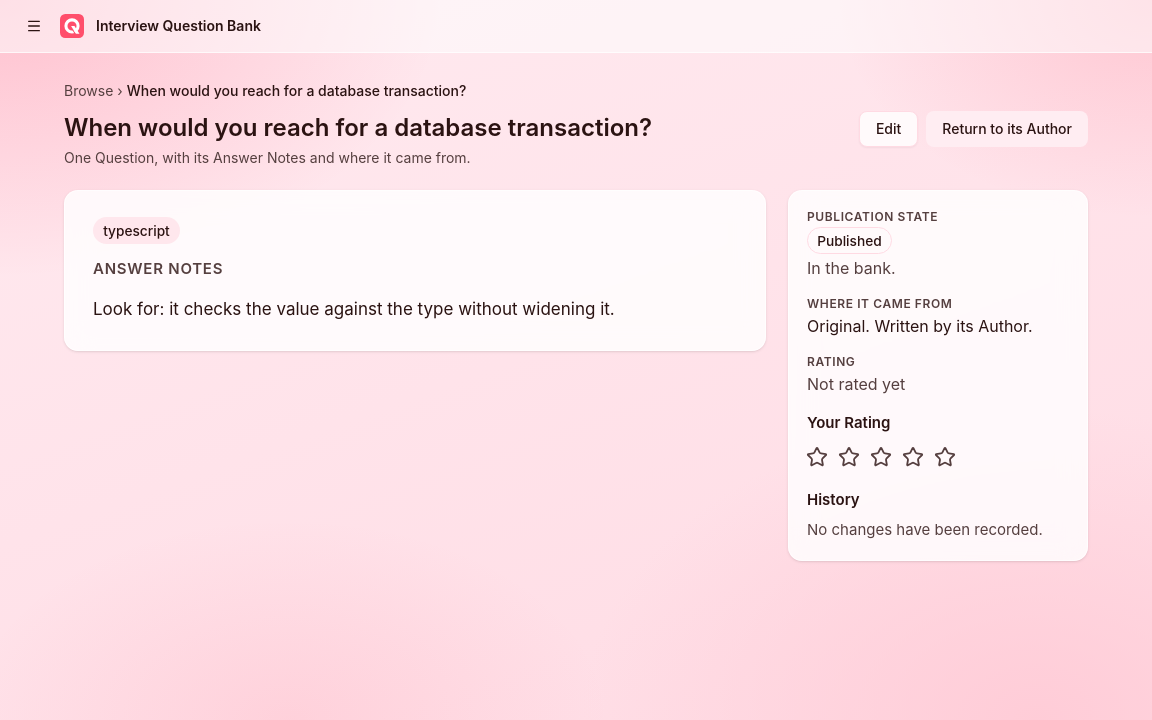
returning a Published Question to its Author › sends the reason, and the page shows the Question as Rejected with it
The width and height of the screenshot is (1152, 720).
Step 1. Click the button "Return to its Author" → (1007,129), box [926,111,1088,147]
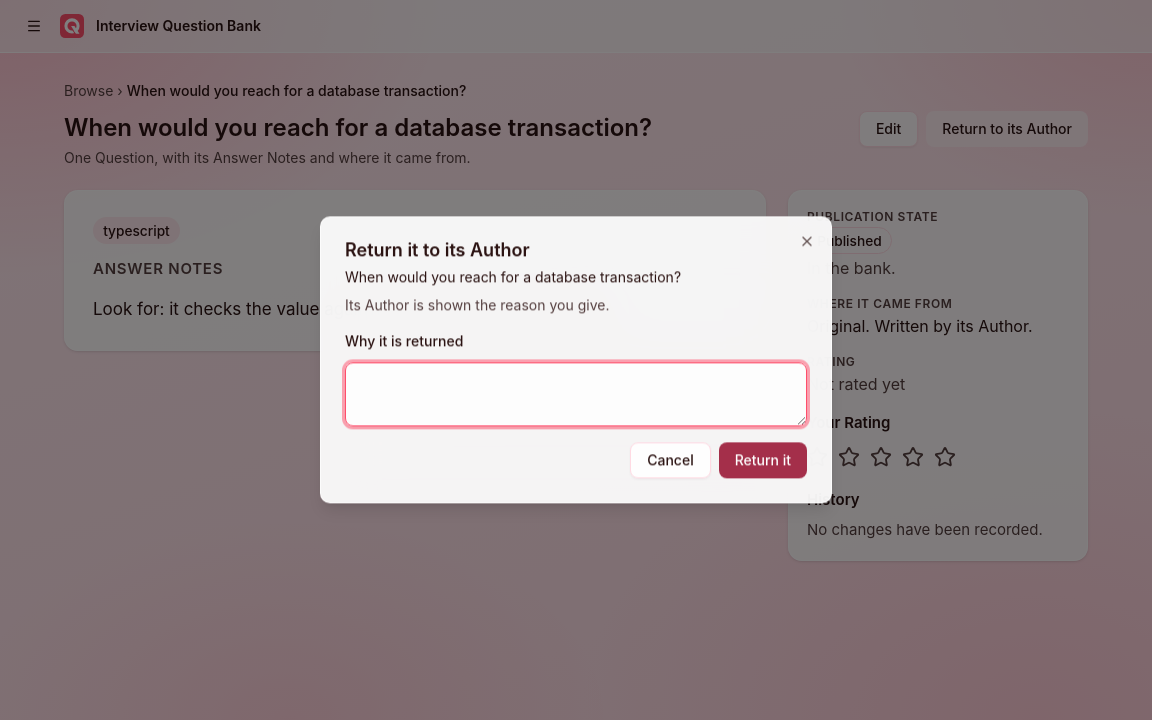
Step 2. Type "Restricted to the wrong Client." into the text box labelled "Why it is returned" → (576,395), box [345,363,807,427]
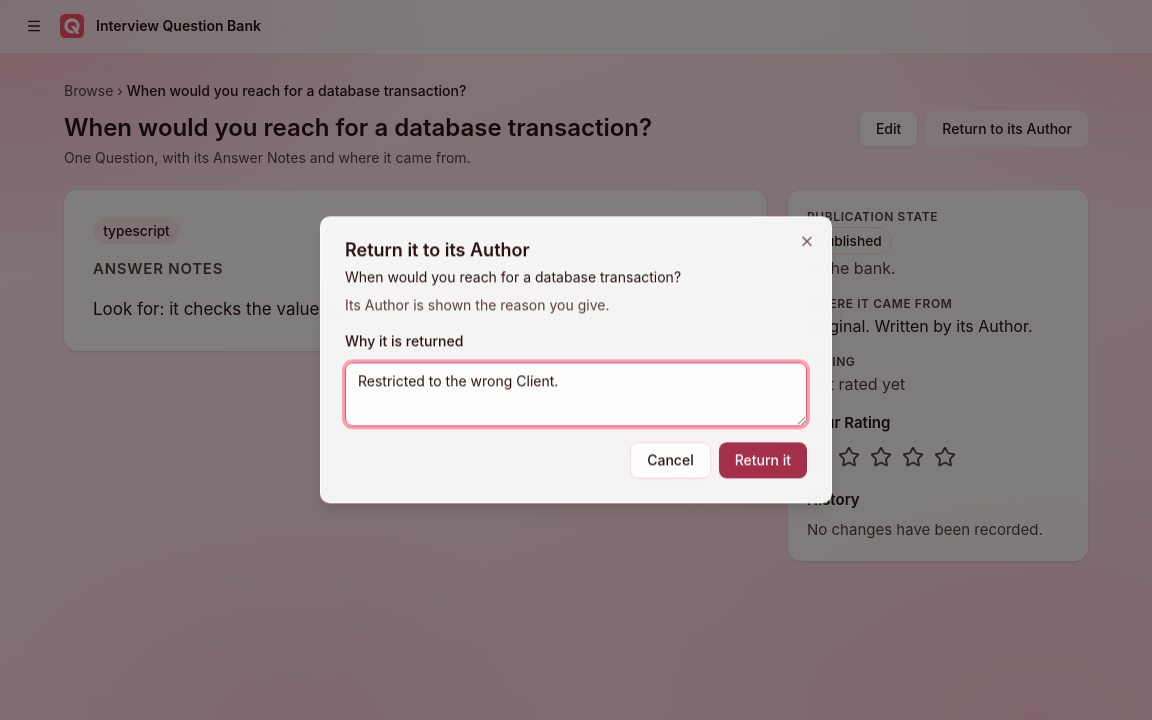
Step 3. Click the button "Return it" → (763,461), box [719,443,807,479]
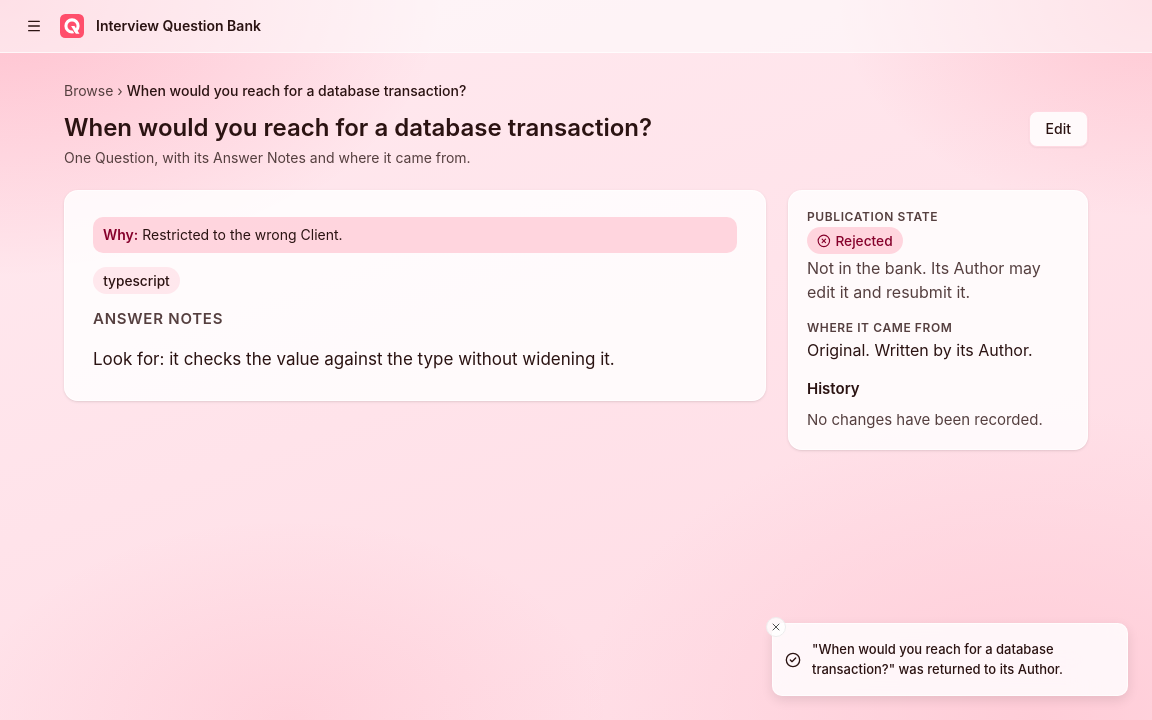
Expected: the text "Restricted to the wrong Client." is shown, [142,226,343,243]
Expected: the text "Rejected" is shown, [807,227,903,254]
